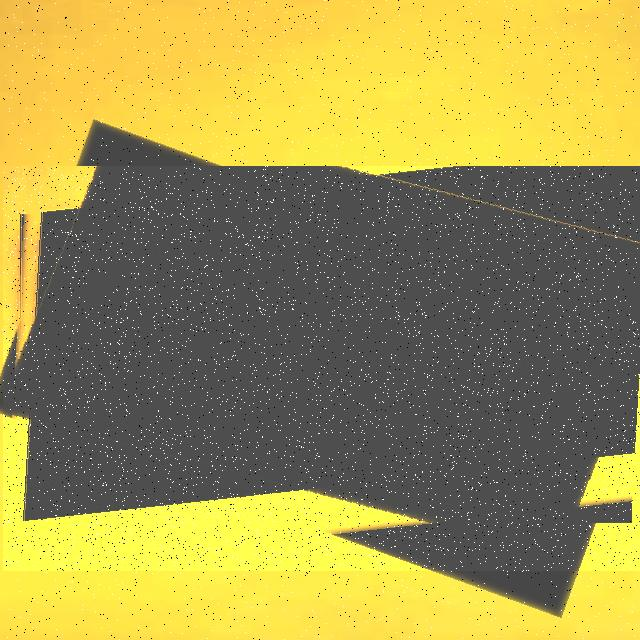lima puluh ribu rupiah: (3, 166, 640, 571)
